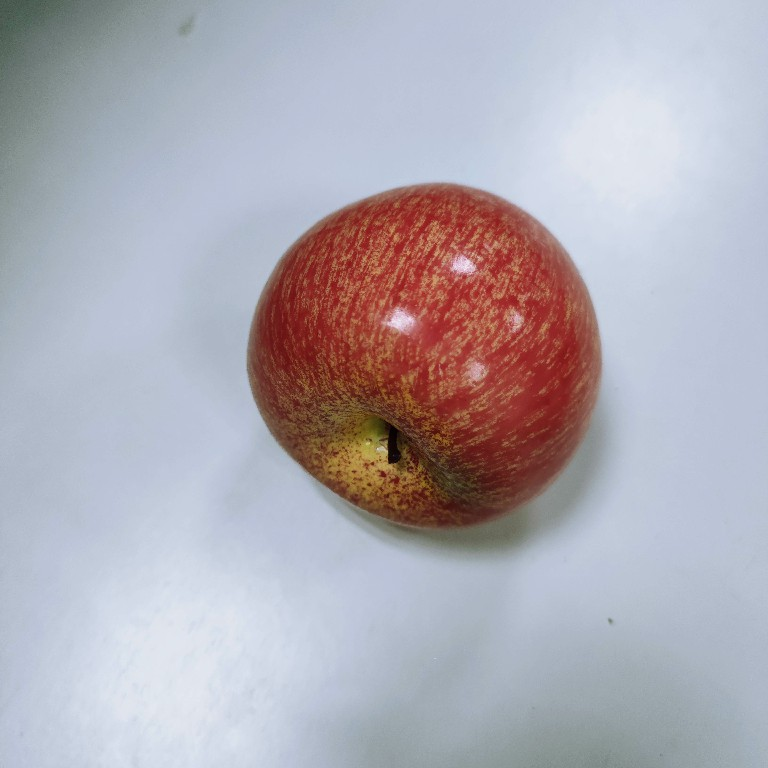fruit_apple: (238, 174, 611, 537)
